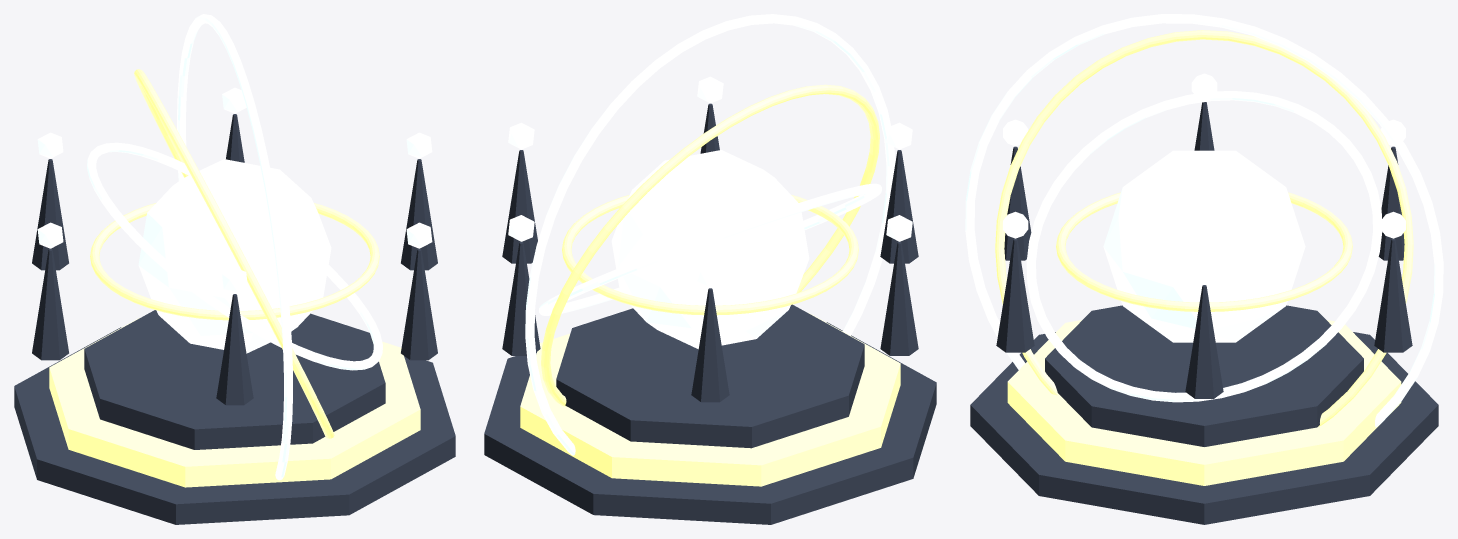
File: gpu-blender-v22.glb
3 views of the same model, side by side, from view 1: azimuth 30°, elevation 25°; view 2: azimuth 150°, elevation 25°; view 3: azimuth 270°, elevation 25° (orthographic). The views are drawn at different scales.
Visible parts, largest first — view 1: Cylinder.002, Cylinder, SovereignCore_web-security-guard, Cylinder.001, Torus.003, Torus.001, Torus.002, Torus, Cone.004, Cone.003, Cone.005, Cone.002 (+7 smaller); view 2: Cylinder.002, SovereignCore_web-security-guard, Cylinder, Cylinder.001, Torus.003, Torus.002, Torus.001, Torus, Cone.002, Cone.003, Cone.001, Cone.004 (+7 smaller); view 3: SovereignCore_web-security-guard, Cylinder.002, Cylinder, Cylinder.001, Torus.003, Torus.001, Torus.002, Torus, Cone.001, Cone.005, Cone, Cone.004 (+3 smaller).
Part boxes in pixels (bbox=[...]): Cylinder.002: bbox=[84, 310, 385, 449]; Cylinder: bbox=[14, 327, 455, 524]; SovereignCore_web-security-guard: bbox=[138, 159, 331, 353]; Cylinder.001: bbox=[49, 318, 420, 487]; Torus.003: bbox=[177, 14, 292, 480]; Torus.001: bbox=[87, 142, 382, 370]; Torus.002: bbox=[134, 69, 334, 438]; Torus: bbox=[90, 203, 379, 320]; Cone.004: bbox=[216, 294, 253, 405]; Cone.003: bbox=[32, 249, 68, 360]; Cone.005: bbox=[401, 249, 437, 360]; Cone.002: bbox=[32, 159, 68, 270]; Cylinder.002: bbox=[556, 304, 864, 448]; SovereignCore_web-security-guard: bbox=[611, 150, 809, 349]; Cylinder: bbox=[484, 322, 936, 524]; Cylinder.001: bbox=[520, 313, 900, 486]; Torus.003: bbox=[525, 14, 895, 455]; Torus.002: bbox=[541, 84, 879, 406]; Torus.001: bbox=[539, 183, 881, 315]; Torus: bbox=[562, 195, 858, 315]; Cone.002: bbox=[691, 288, 729, 402]; Cone.003: bbox=[880, 242, 918, 355]; Cone.001: bbox=[502, 242, 540, 355]; Cone.004: bbox=[880, 150, 918, 263]; SovereignCore_web-security-guard: bbox=[1103, 150, 1305, 342]; Cylinder.002: bbox=[1045, 305, 1363, 446]; Cylinder: bbox=[970, 332, 1438, 524]; Cylinder.001: bbox=[1007, 320, 1401, 485]; Torus.003: bbox=[965, 14, 1443, 427]; Torus.001: bbox=[1026, 91, 1382, 402]; Torus.002: bbox=[995, 30, 1413, 426]; Torus: bbox=[1056, 192, 1352, 311]; Cone.001: bbox=[1374, 239, 1412, 352]; Cone.005: bbox=[996, 239, 1034, 352]; Cone: bbox=[1185, 285, 1223, 398]; Cone.004: bbox=[1004, 146, 1031, 260].
Size of the model in its own units: 4.41 by 4.7 by 4.49.
